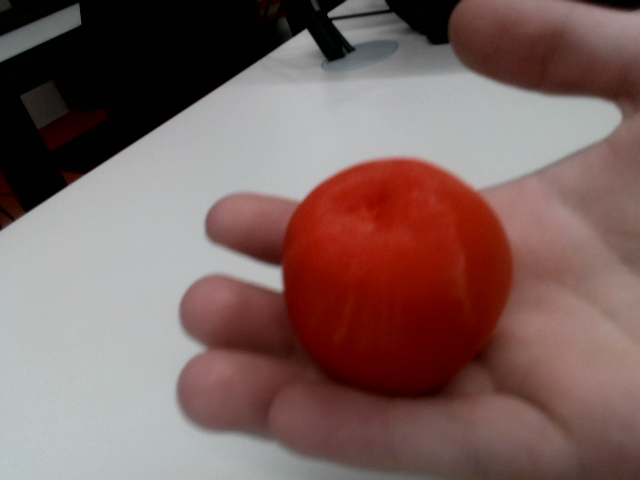Crvena jabuka: (282, 161, 511, 394)
